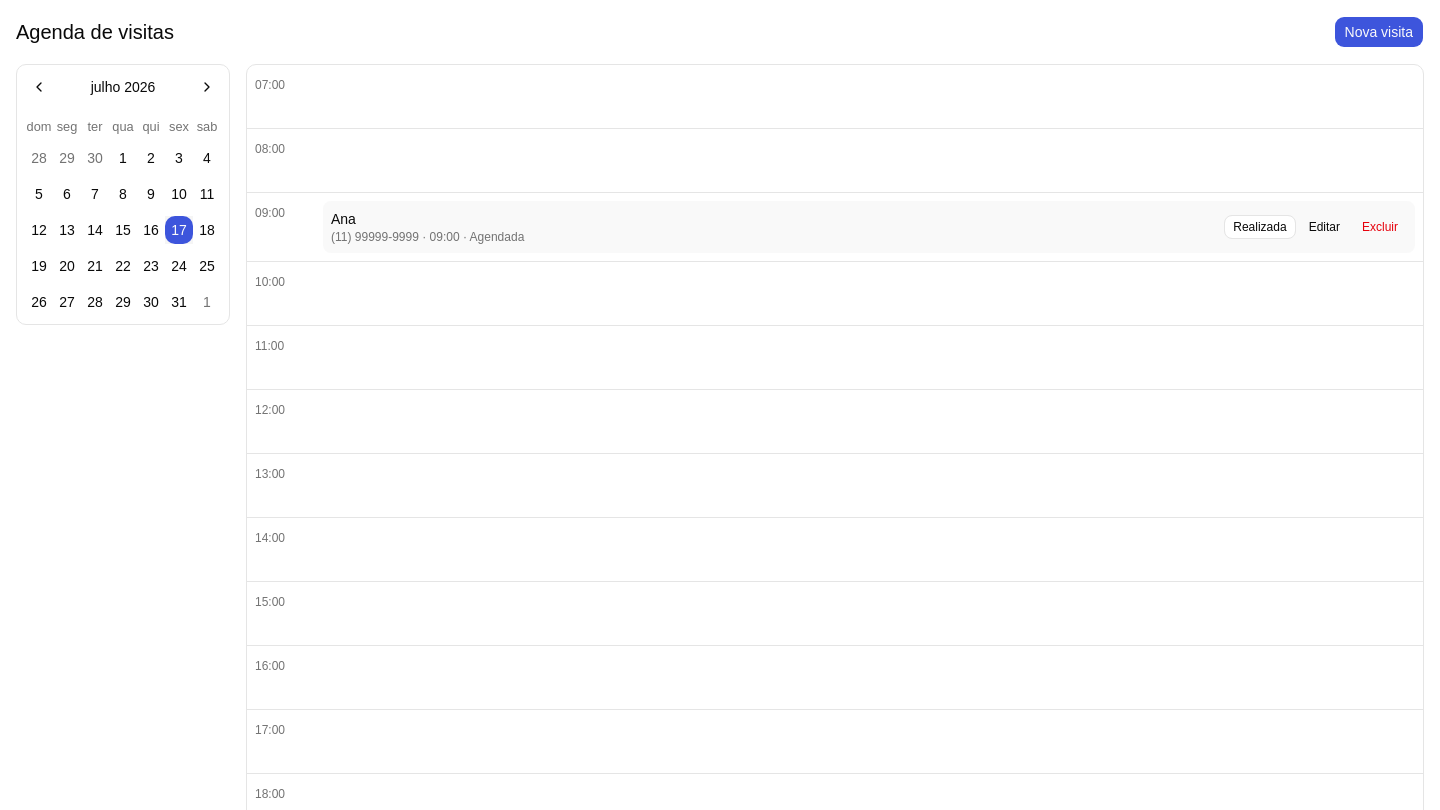
Test: AgendaPanel › abre modal de criação vazio ao clicar em "Nova visita"
Click the button "Nova visita" at (1379, 32), box x1=1334 y1=16 x2=1424 y2=48
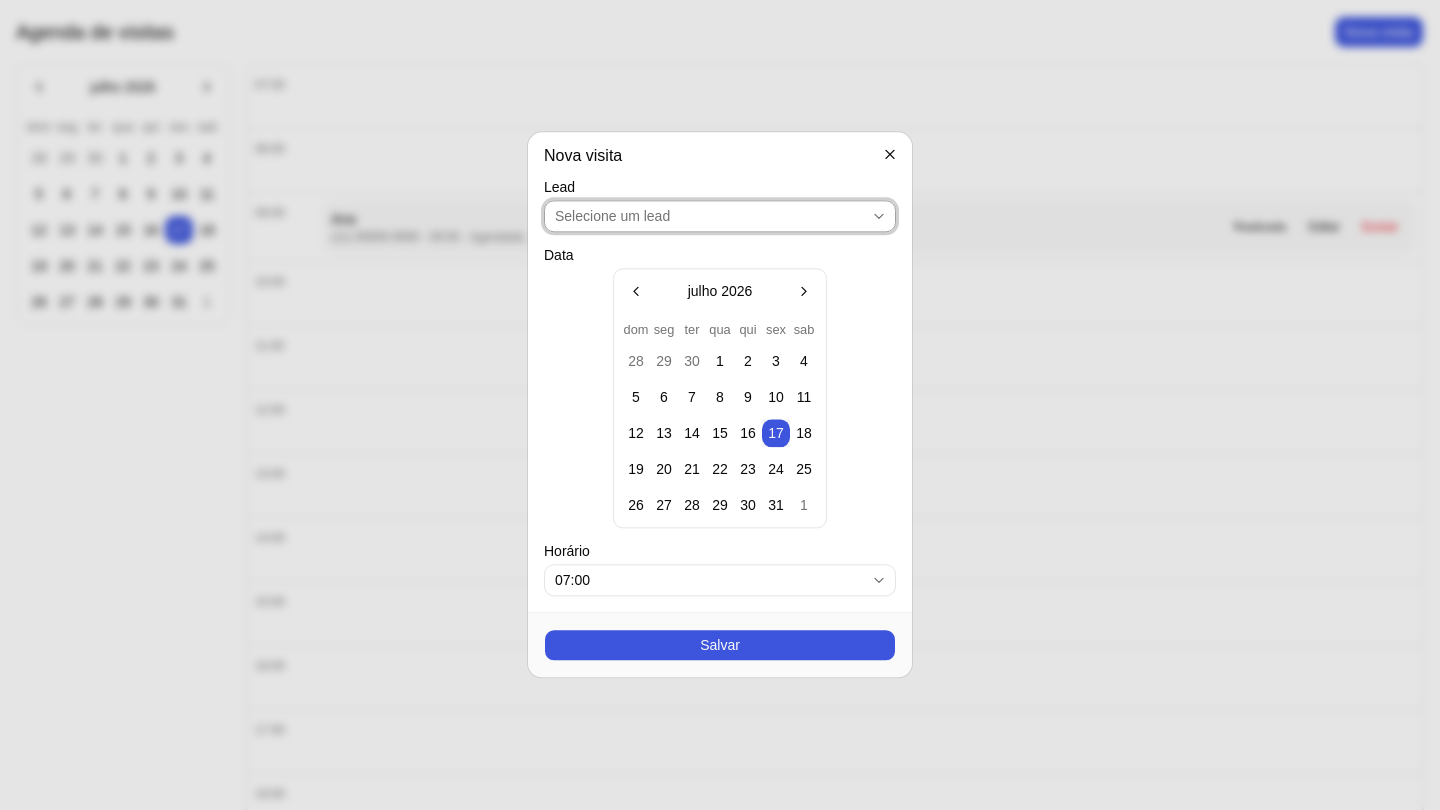
expect the heading "Nova visita" is shown: met, box x1=544 y1=147 x2=622 y2=164
